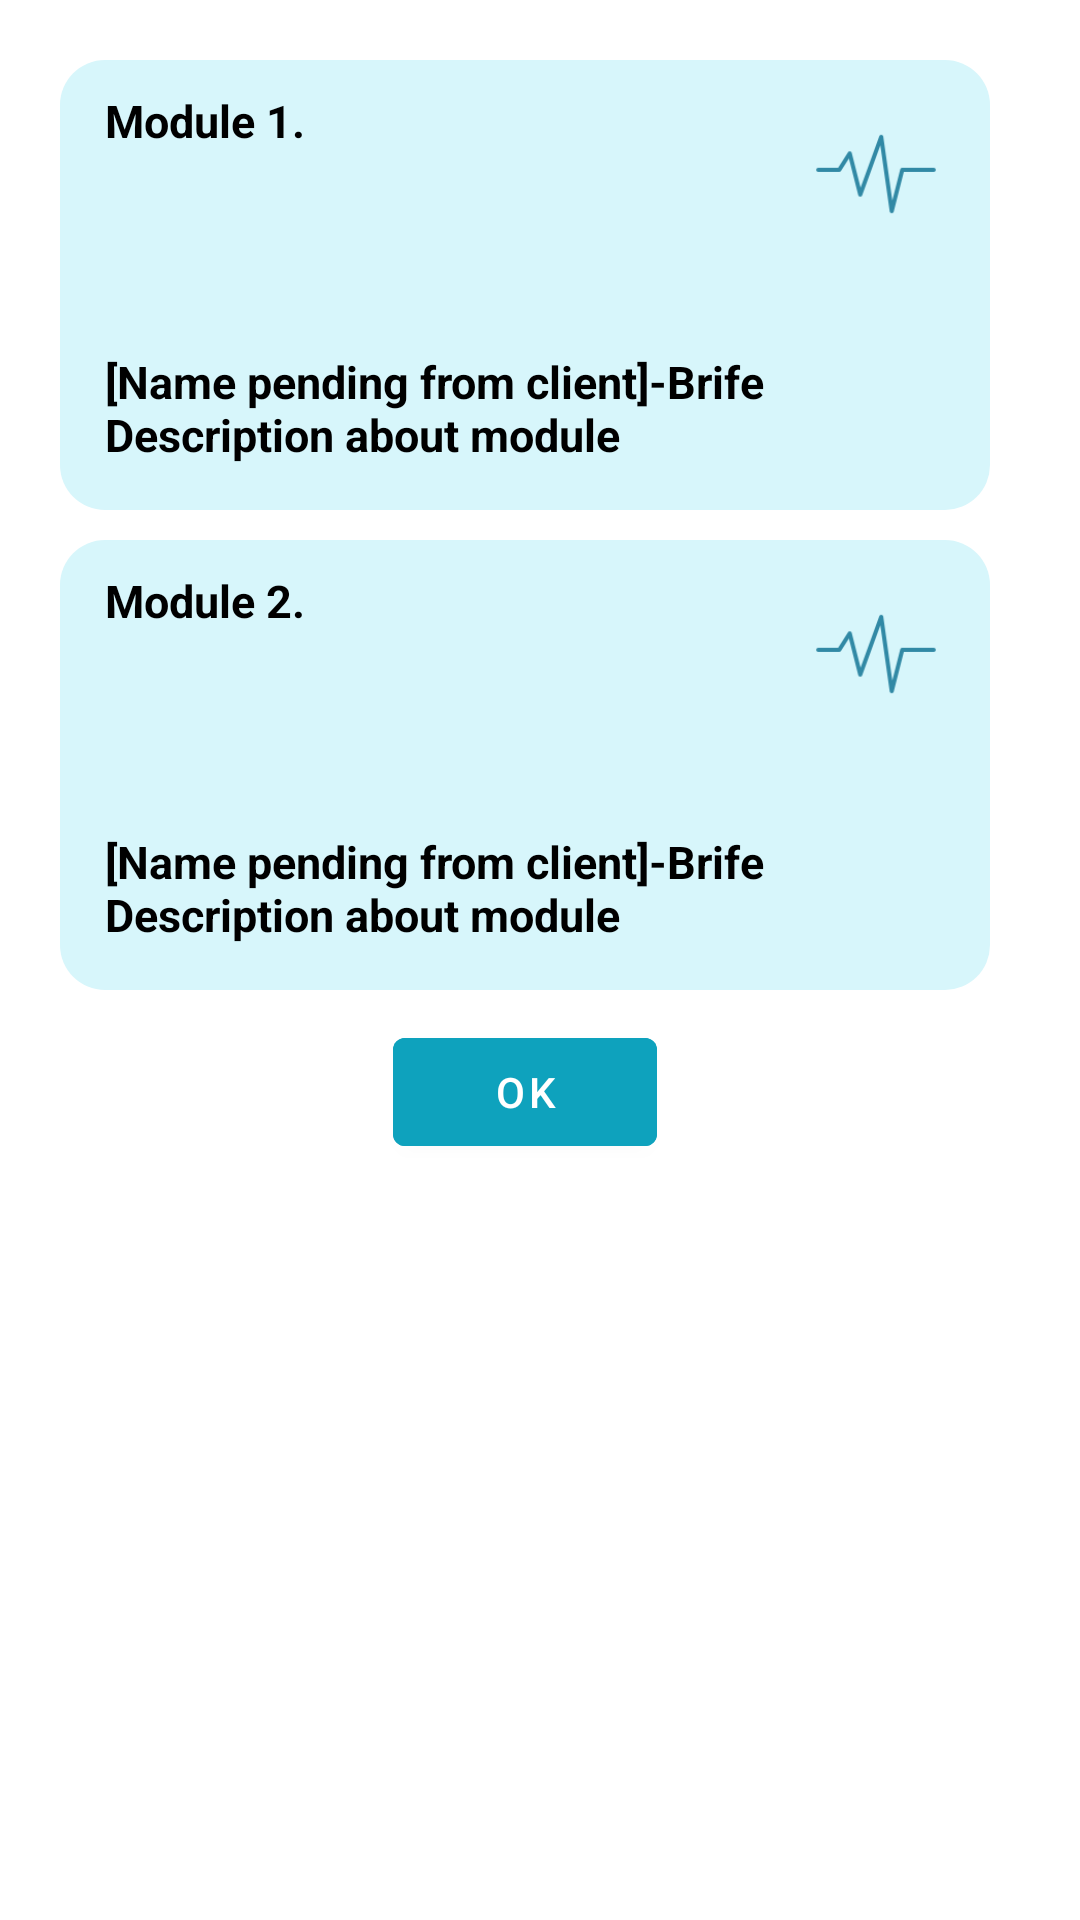

Point at icon controls on the screen. Image size 1080×1920, points as point (x, y).
heartbeat: point (876, 174), point (876, 654)
